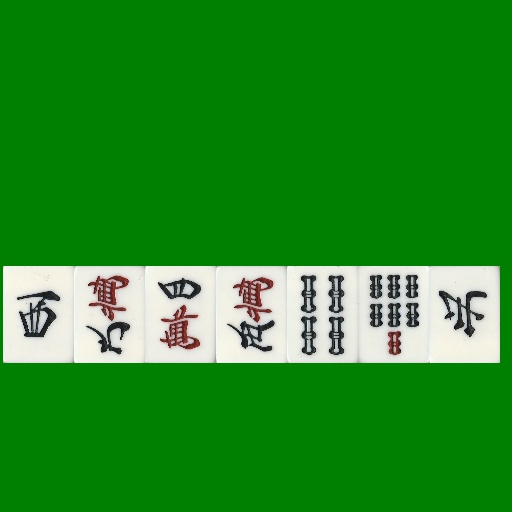4m: (145, 266, 216, 363)
4s: (287, 266, 358, 363)
5m: (216, 266, 287, 363)
7s: (358, 266, 429, 363)
9m: (74, 266, 145, 363)
north: (429, 266, 500, 363)
west: (3, 266, 74, 363)
